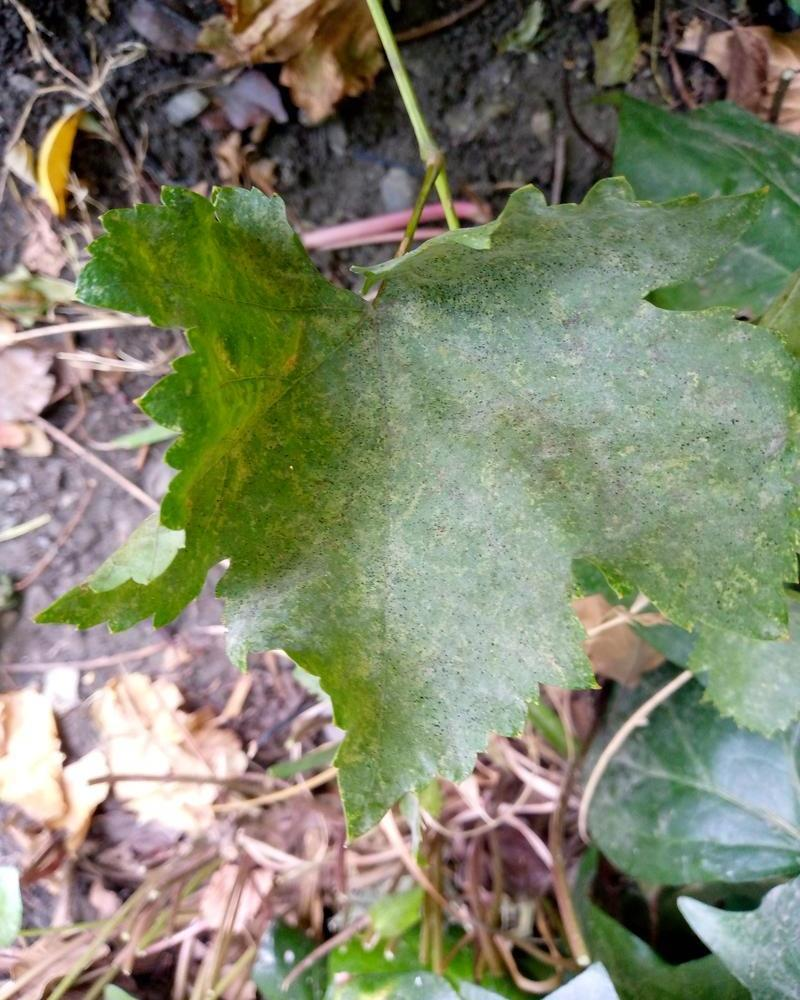Powdery-Mildew: (424, 261, 764, 478), (231, 496, 572, 700), (607, 204, 686, 283), (432, 437, 511, 516)
